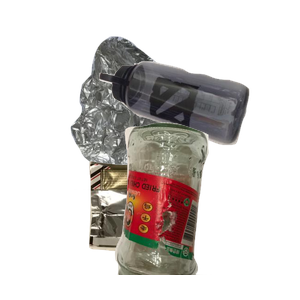glass: (112, 120, 300, 300)
metal: (68, 34, 300, 214)
plastic: (97, 59, 300, 197)
trash: (86, 158, 242, 300)
